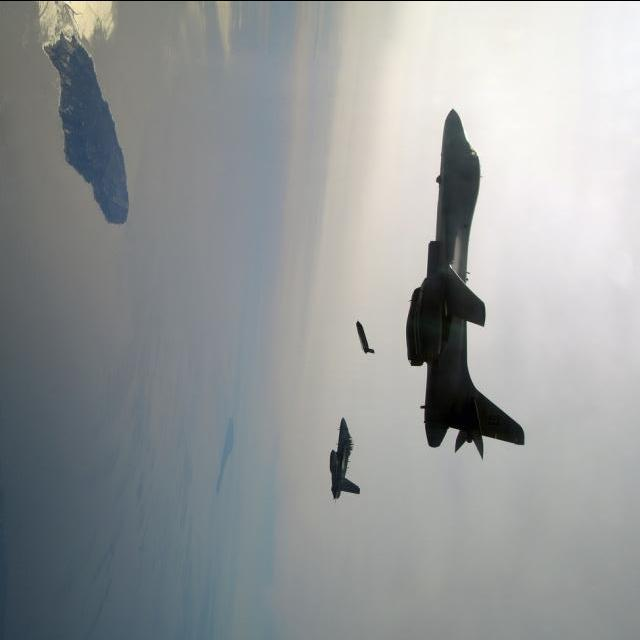missile: (352, 312, 381, 360)
